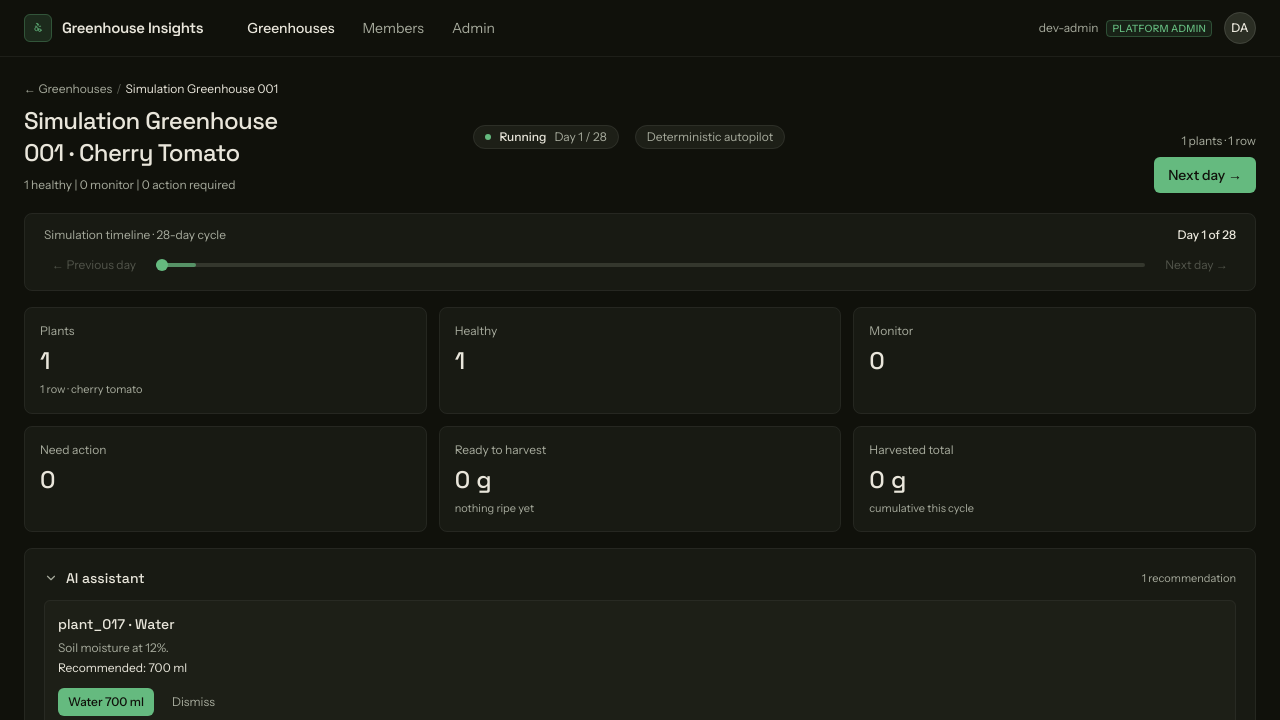
Test case: GreenhouseDashboardPage › the AI assistant panel starts open and collapses/expands on click
The image size is (1280, 720).
Check: the text "plant_017 · Water" is shown, box [58, 614, 175, 634]
Click the button "AI assistant 1 recommendation": (105, 578) [44, 568, 1236, 588]
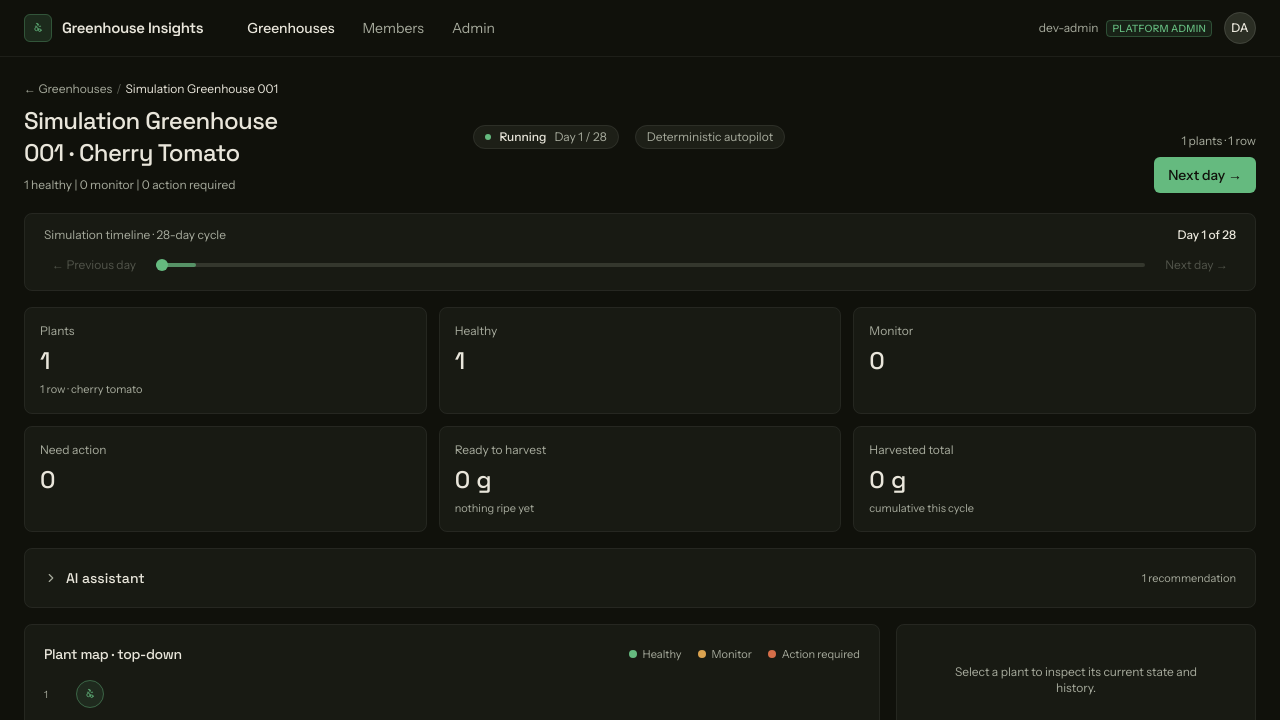
Check: the button "AI assistant 1 recommendation" is collapsed
Check: the text "plant_017 · Water" is gone
Click the button "AI assistant 1 recommendation": (105, 578) [44, 568, 1236, 588]
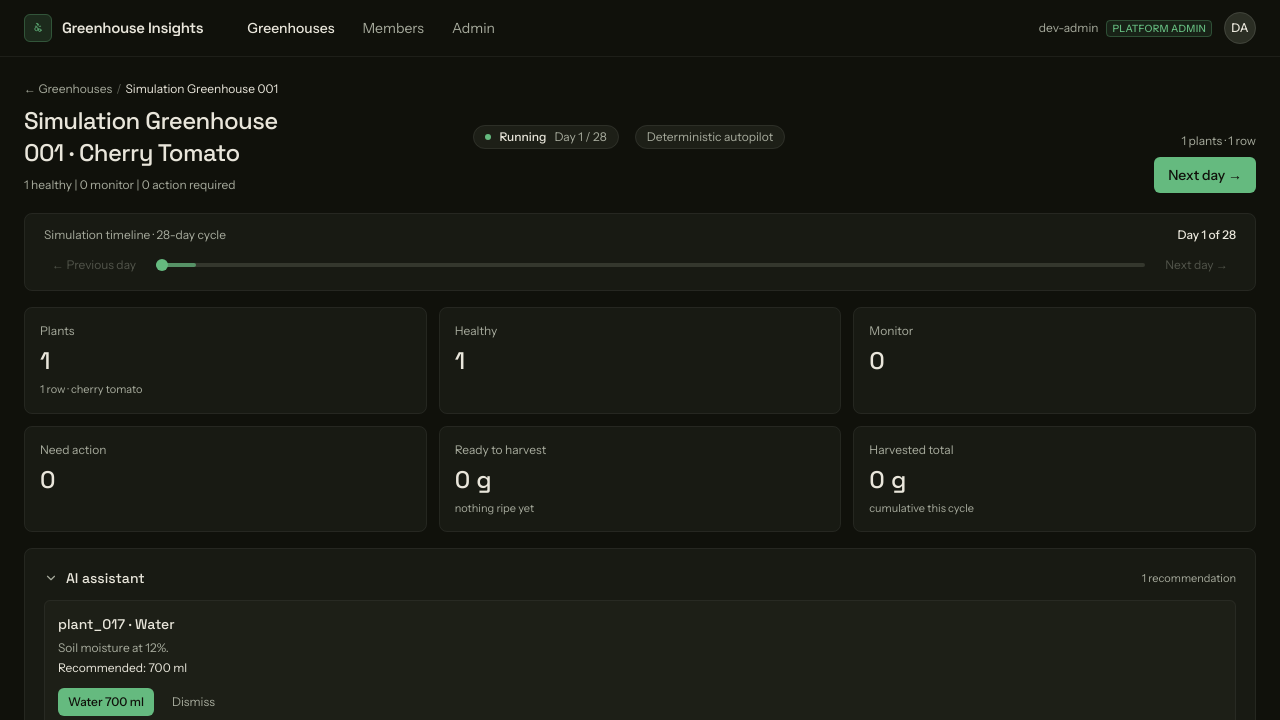
Check: the button "AI assistant 1 recommendation" is expanded, box [44, 568, 1236, 588]
Check: the text "plant_017 · Water" is shown, box [58, 614, 175, 634]
